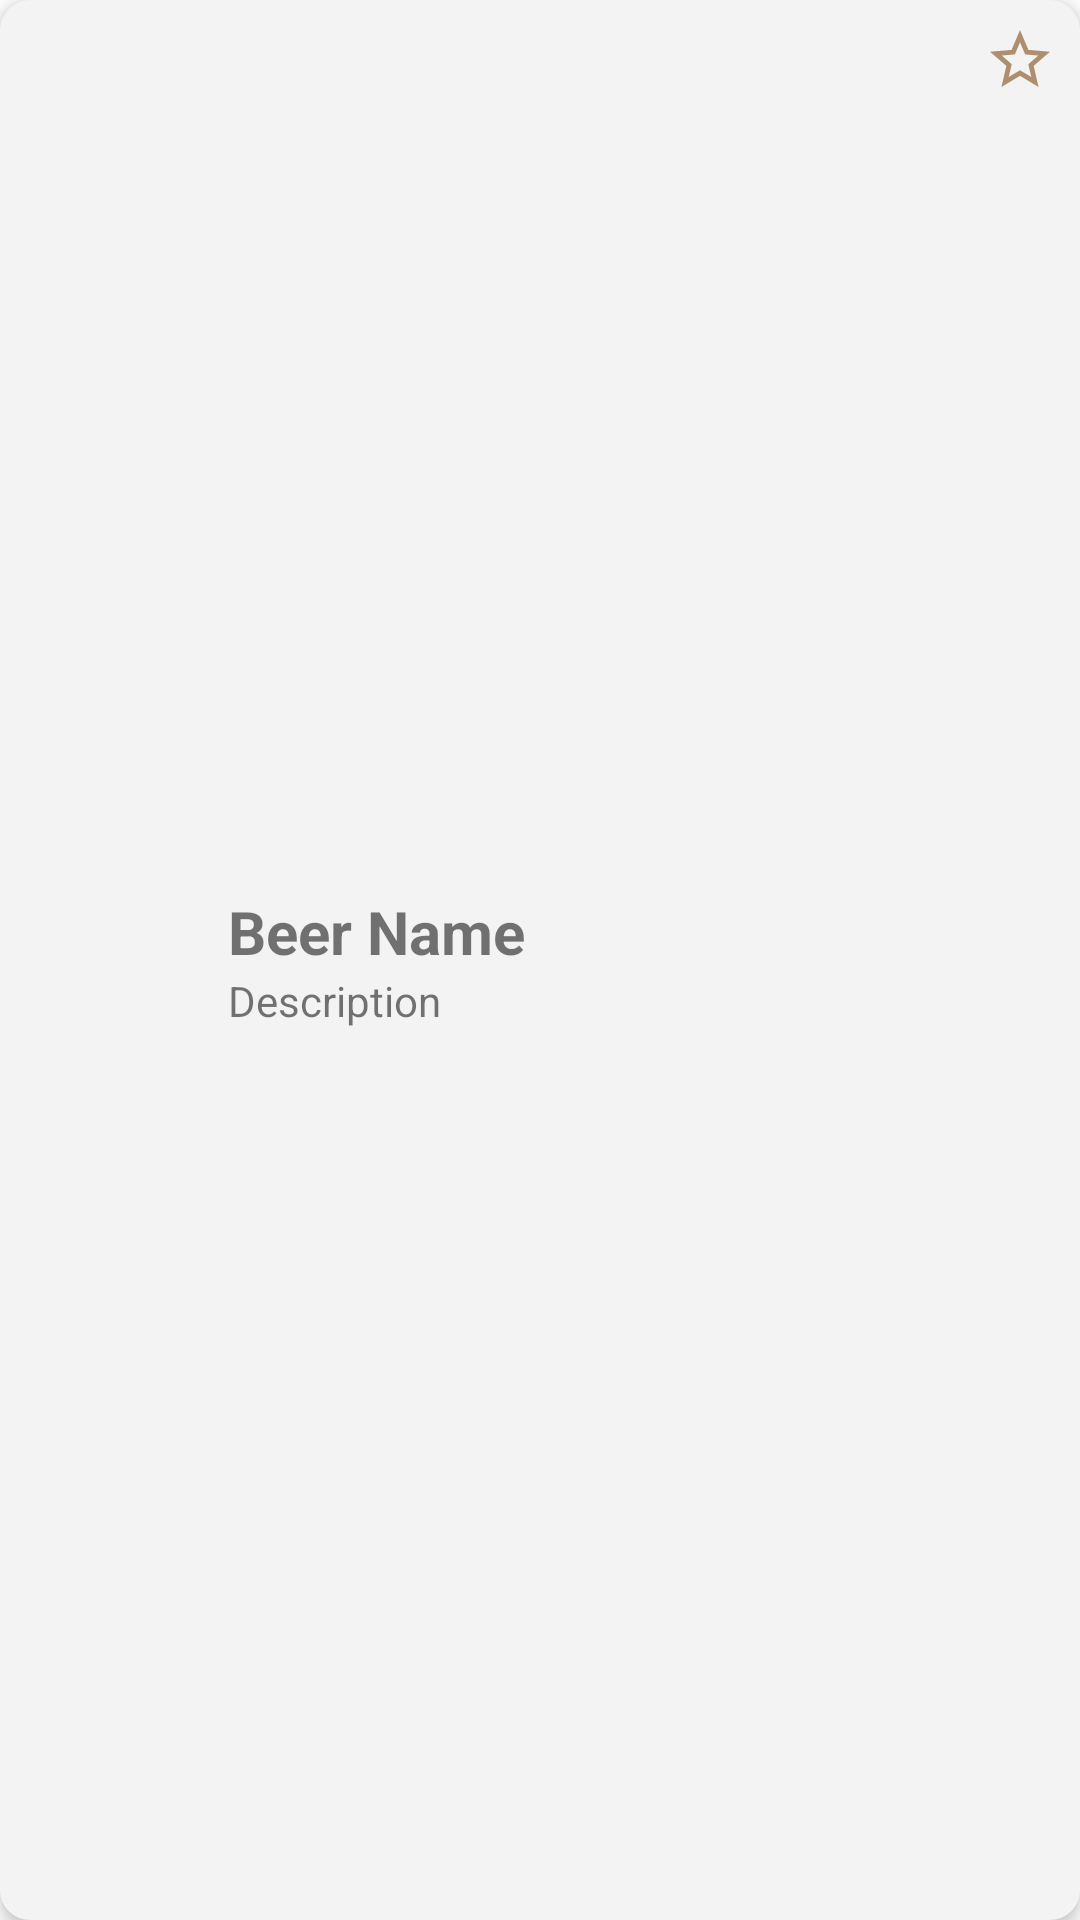

Icon click points for this 1080w x 1920h phone screenshot, format (x,y):
fav: (1020,58)
